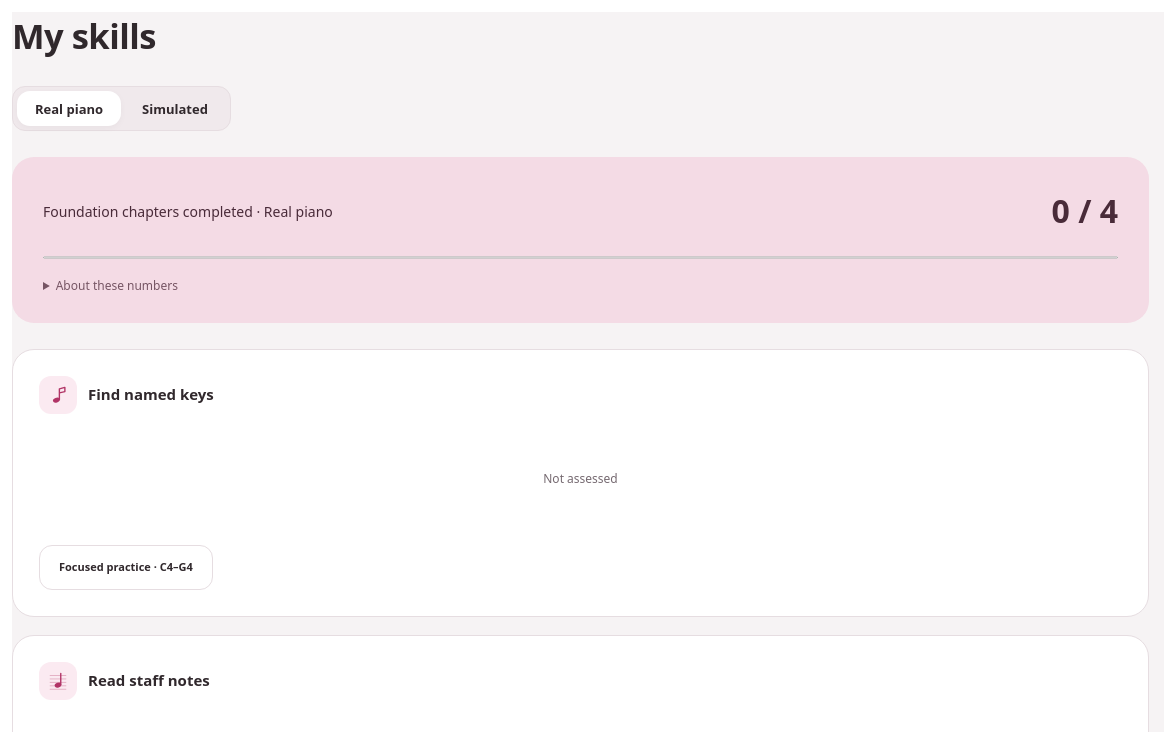
Test: does not present screen practice or chapter completion as a real piano skill
The width and height of the screenshot is (1164, 732).
Step 1. Click the button "Simulated" → point(175, 109), box x1=124 y1=91 x2=226 y2=126
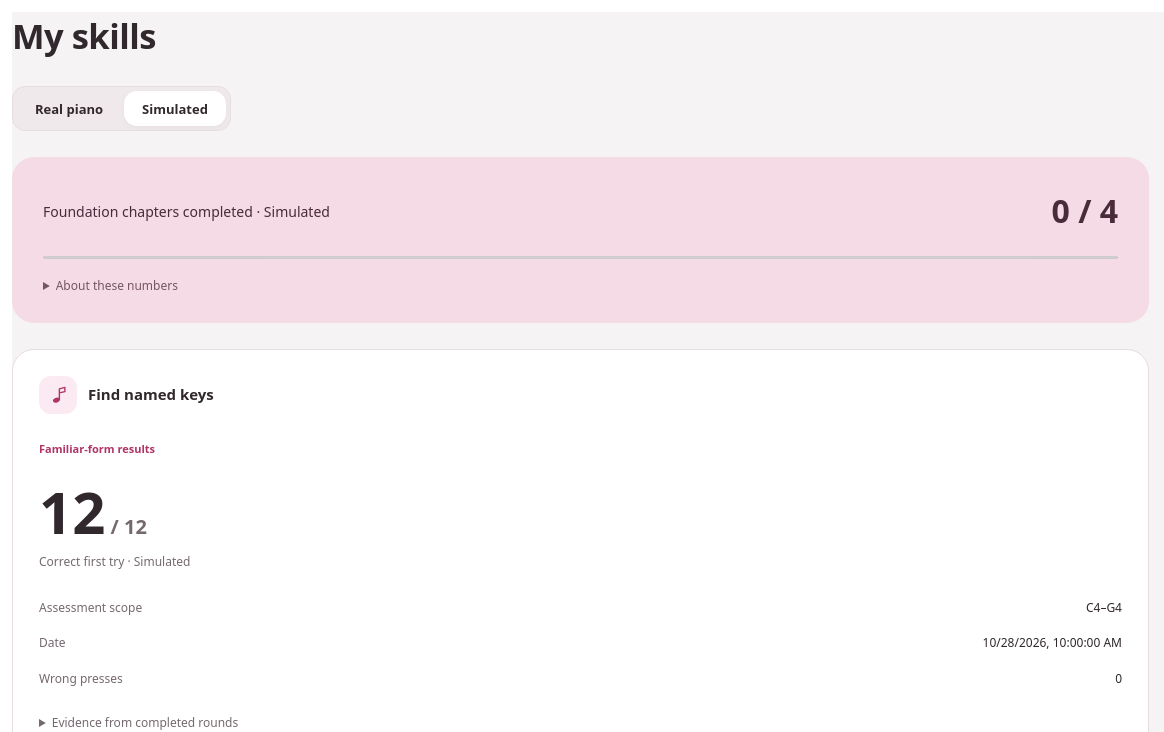
Expected: the text "Familiar-form results" is shown, x1=39 y1=441 x2=155 y2=456
